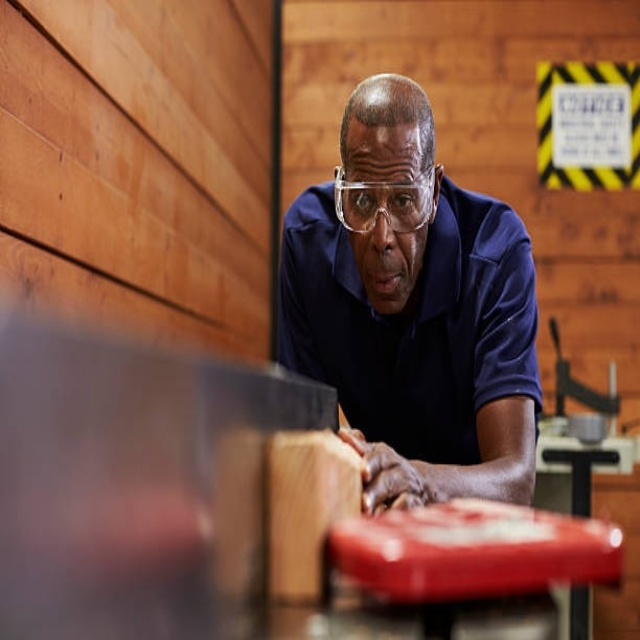Gafas: (333, 163, 439, 233)
Sin_guantes: (356, 446, 433, 518)
Sin_mascara: (359, 257, 413, 312)
